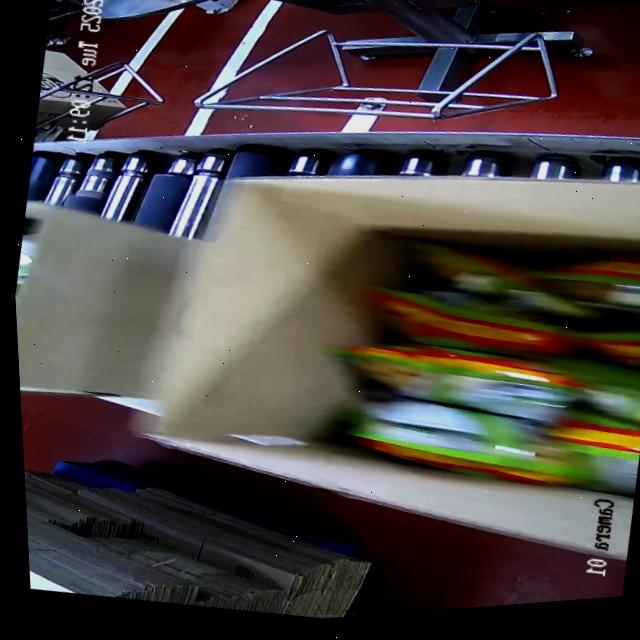YOGURT_HERB: (314, 208, 640, 529)
